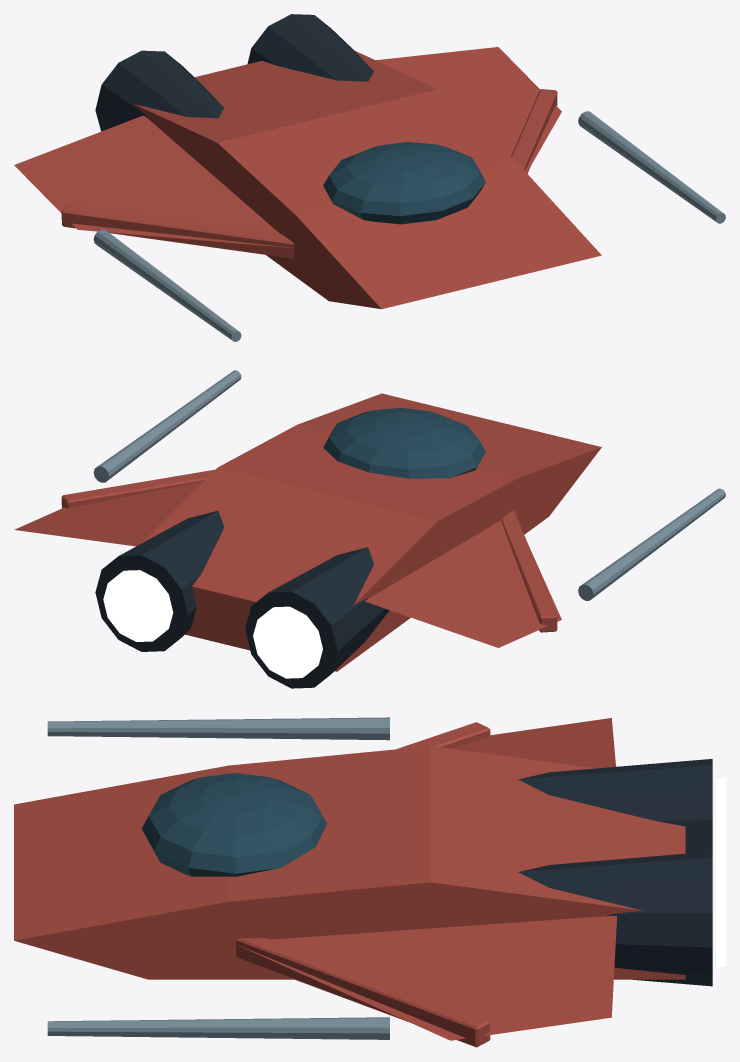
The model's file is space-heavy-fighter.lod0.glb.
The picture shows the model from 3 angles, top to bottom: view 1: azimuth 30°, elevation 25°; view 2: azimuth 150°, elevation 25°; view 3: azimuth 270°, elevation 25°; orthographic projection. The views are drawn at different scales.
Visible parts, largest first — view 1: space-heavy-fighter__body; view 2: space-heavy-fighter__body; view 3: space-heavy-fighter__body.
Part boxes in pixels (x1,y1,x2,y2): space-heavy-fighter__body: (14,14,725,341); space-heavy-fighter__body: (14,370,725,688); space-heavy-fighter__body: (14,717,725,1047).
Size of the model in its own units: 5.45 by 1.14 by 5.3.
